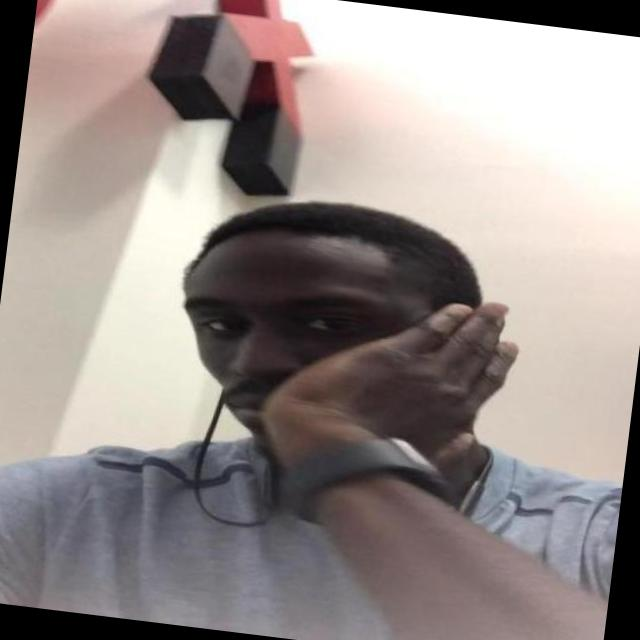bareface: (142, 188, 526, 520)
